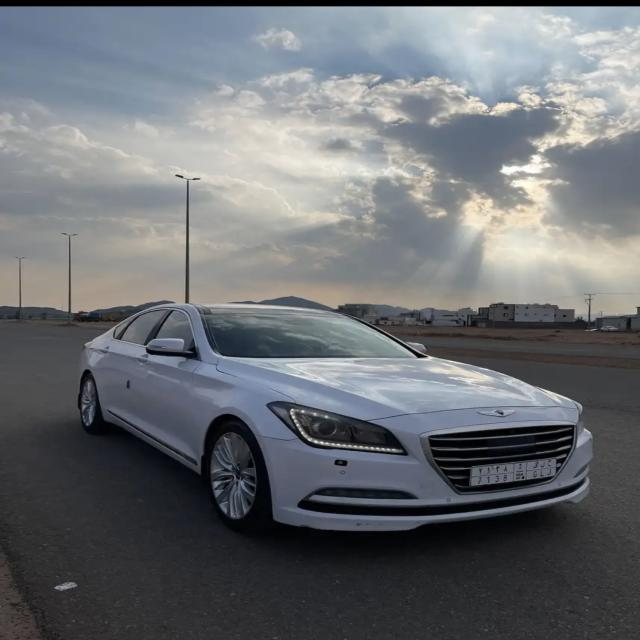license_plate: (470, 458, 557, 488)
